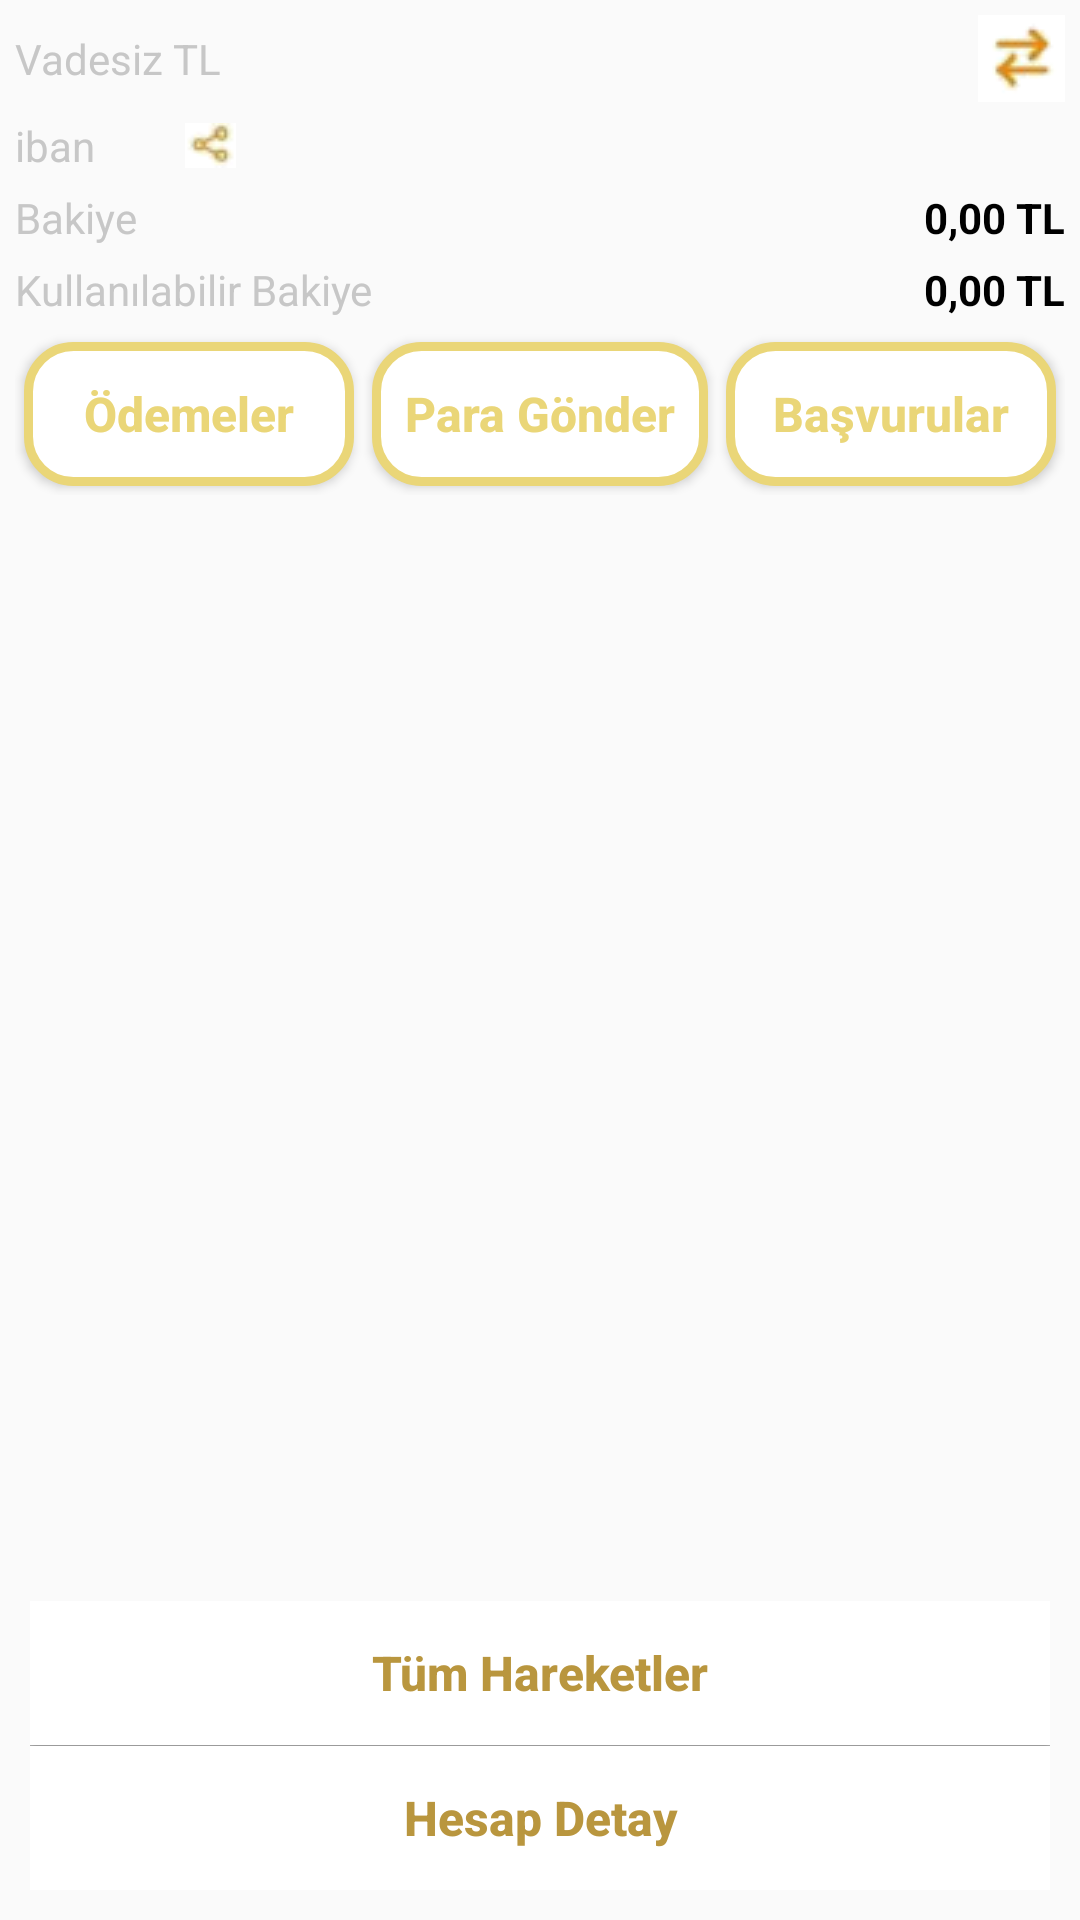

Icon click points for this 1080x1920 phone screenshot, format (x,y):
change: (1023,58)
share: (210,143)
